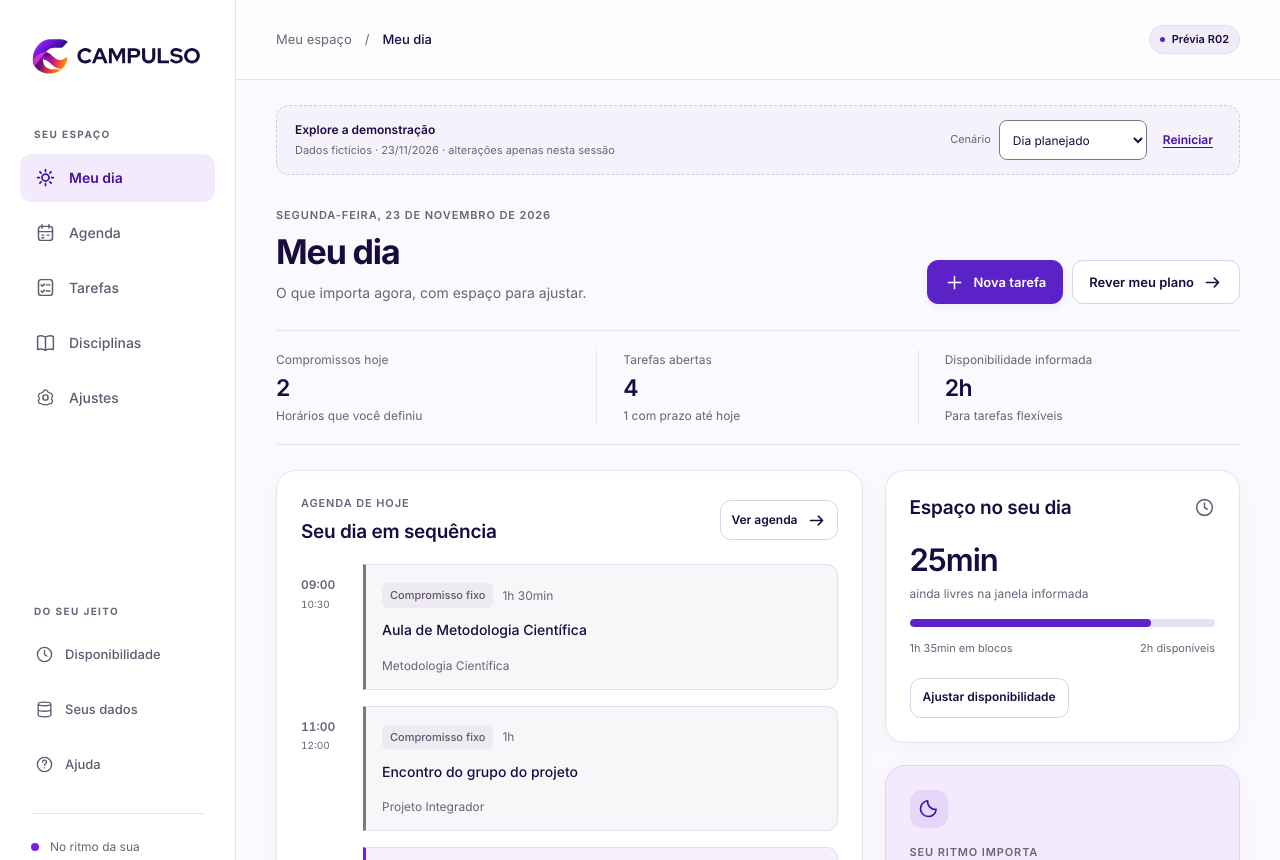
Integração dos componentes React em DOM simulado (não é homologação de navegador) › demonstração escapa texto JSX e edita somente a memória, sem abrir IndexedDB
The image size is (1280, 860).
Click the button "Disciplinas" at point(118, 342), box [20,318,215,366]
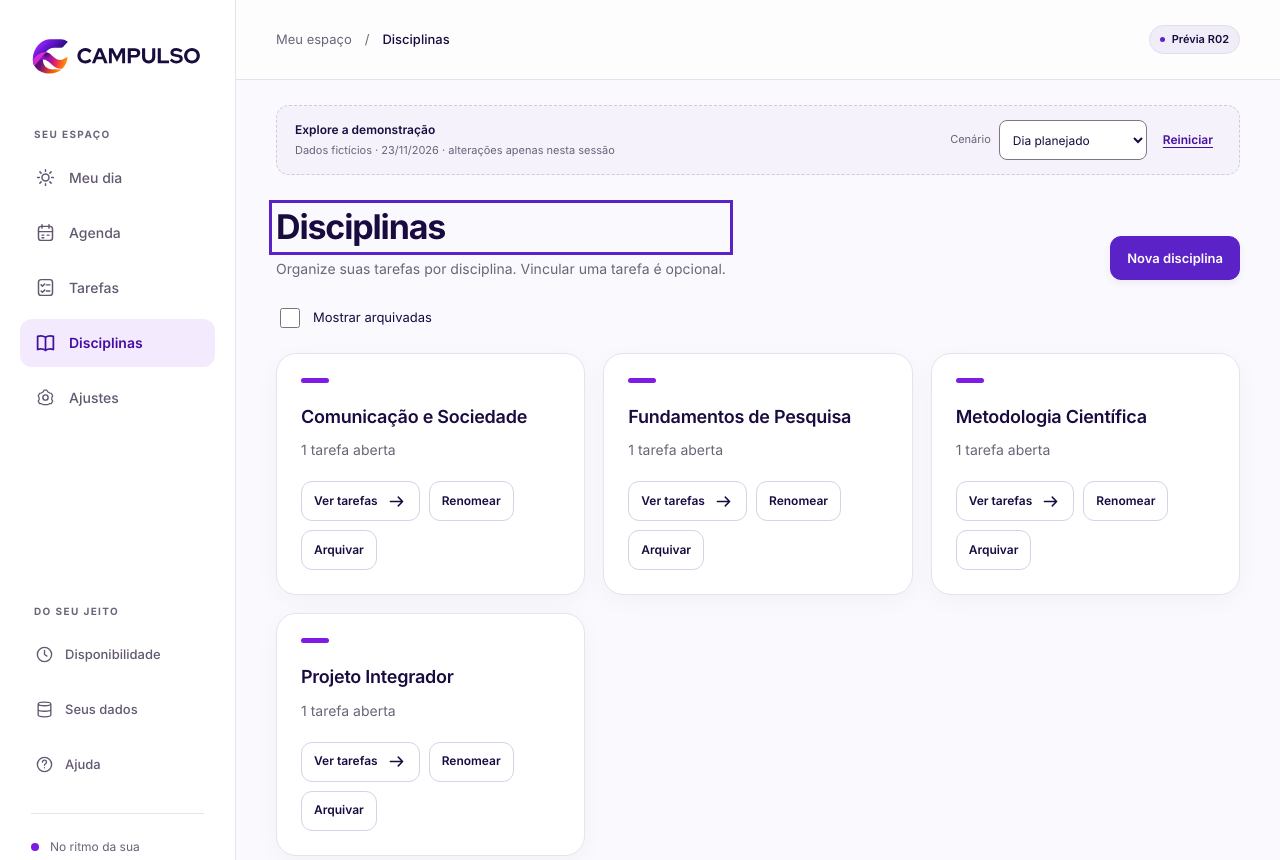
Click the button "Nova disciplina" at point(1175, 258), box [1110,236,1240,280]
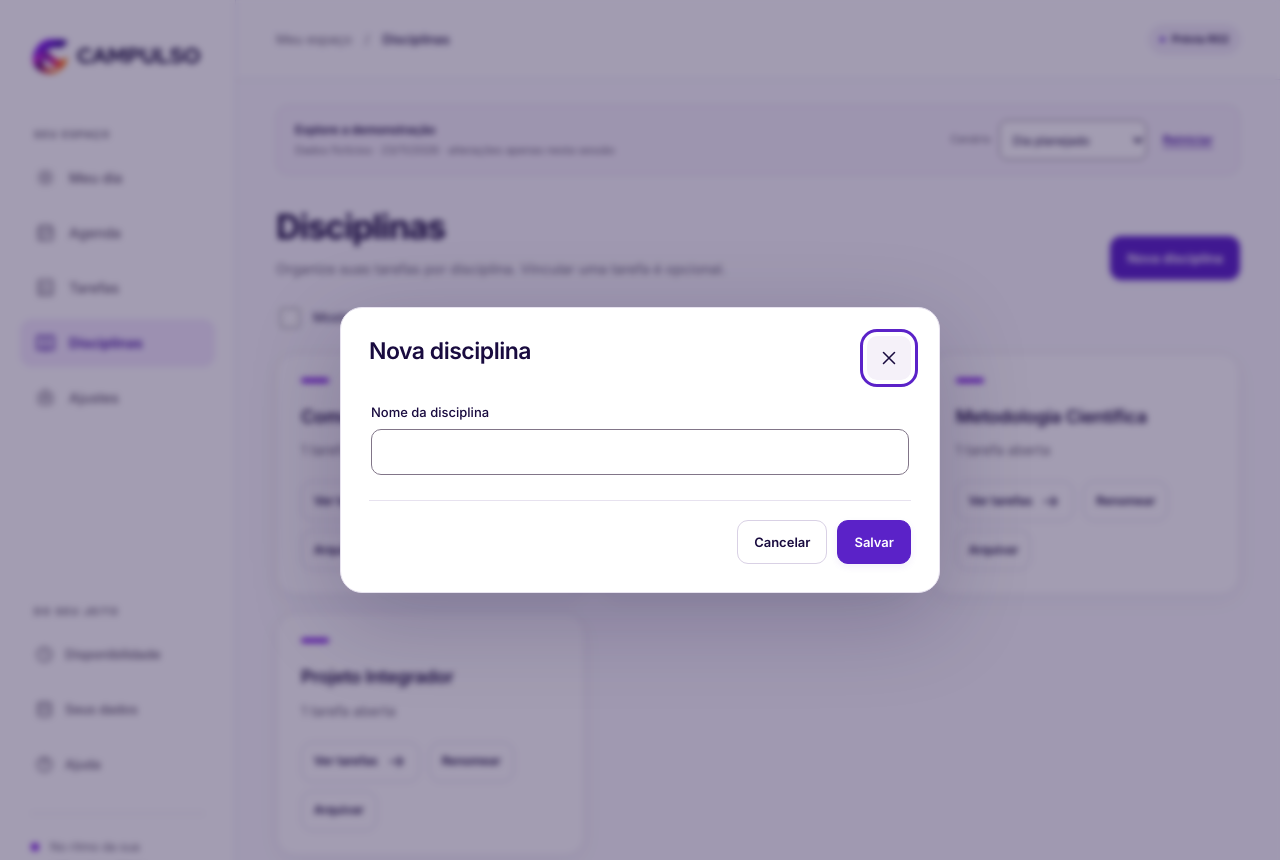
Type "Disciplina de demonstração" into the field labelled "Nome da disciplina" at point(640, 452), box [371,429,909,475]
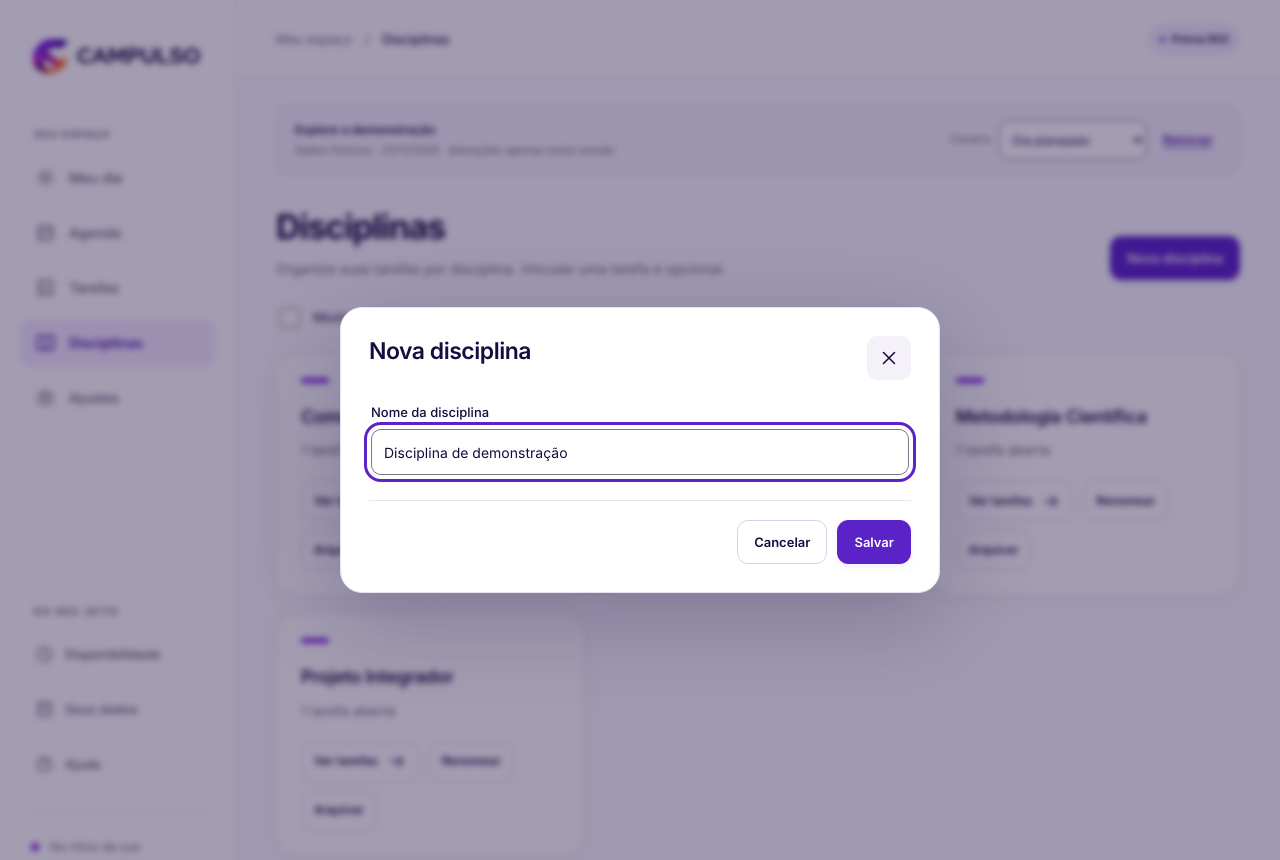
Click the button "Salvar" at point(874, 542), box [837,520,911,564]
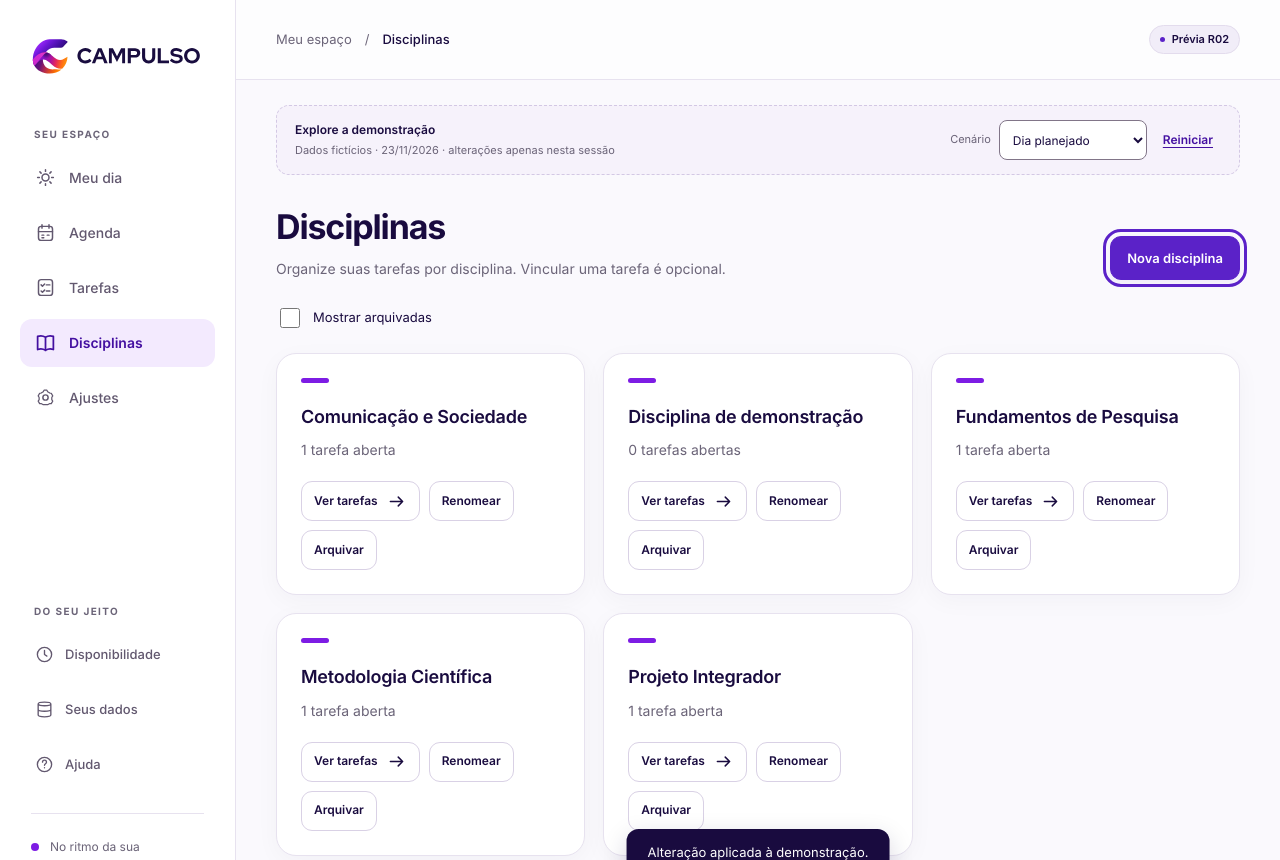
Now the dialog is gone
Now the heading "Disciplina de demonstração" is shown, box [628,405,888,429]
